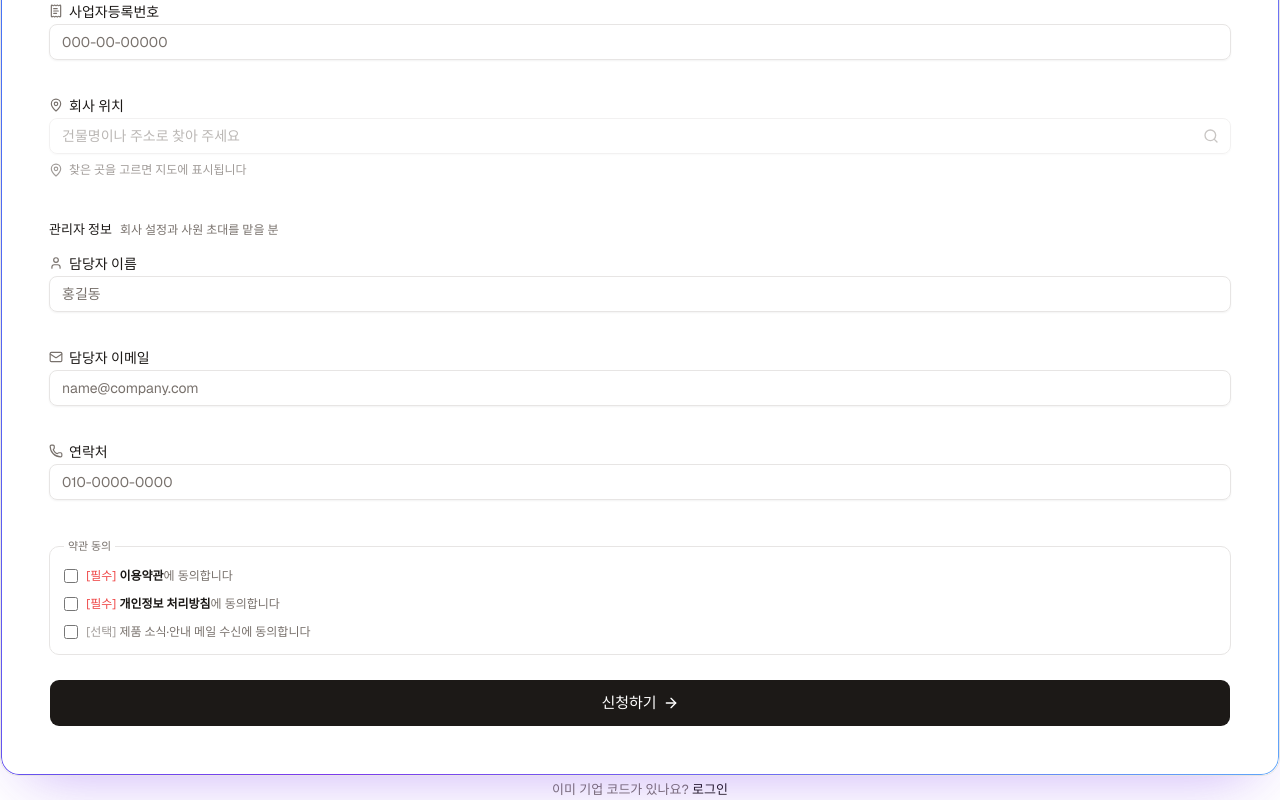
Test: 이용약관을 누르면 모달로 열린다 — 화면을 떠나지 않는다
The image size is (1280, 800).
Click the button "이용약관": (142, 576) 119,566 -> 164,586
(page scrolled)
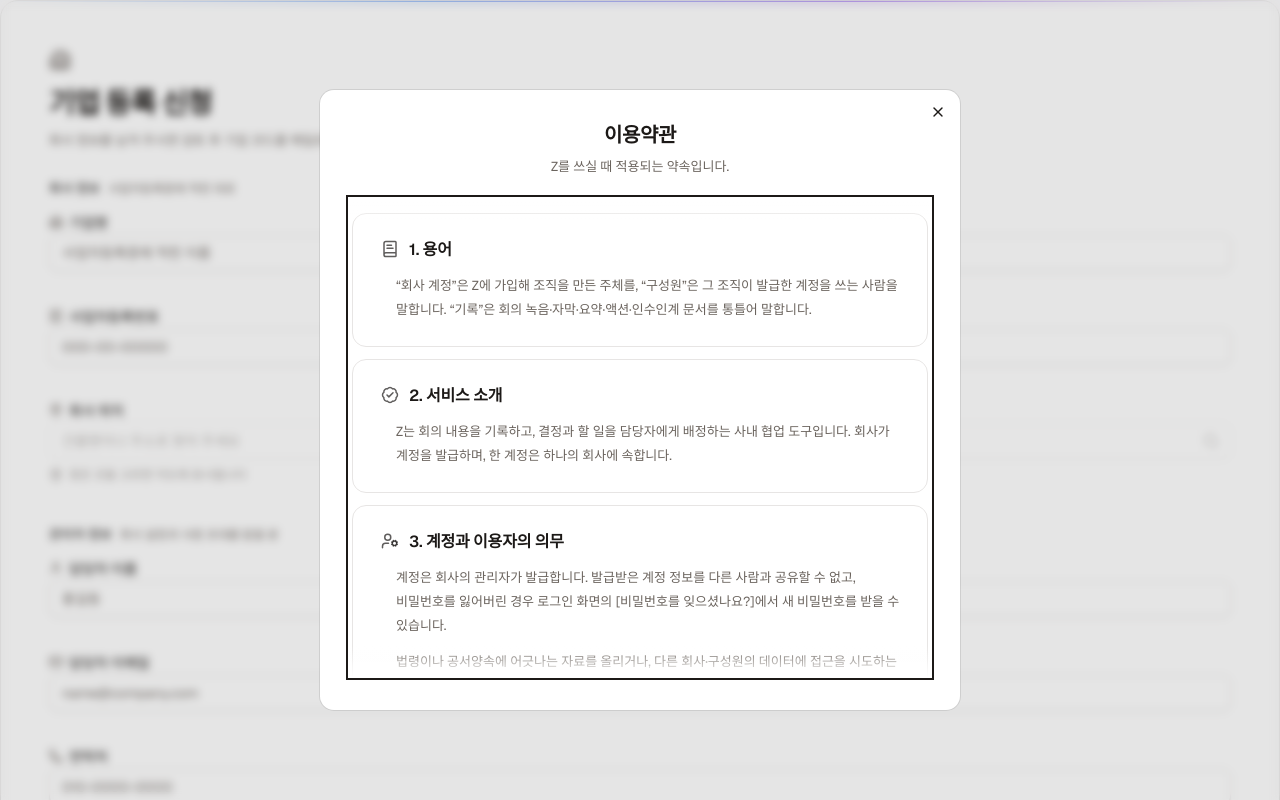
Check: the dialog shows "이용약관", box 604,122 -> 676,148
